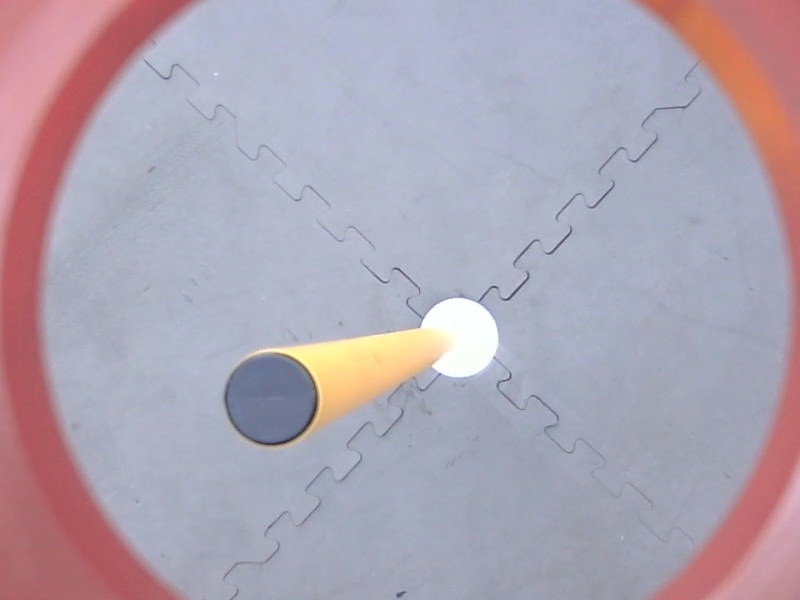tip: (216, 344, 327, 454)
